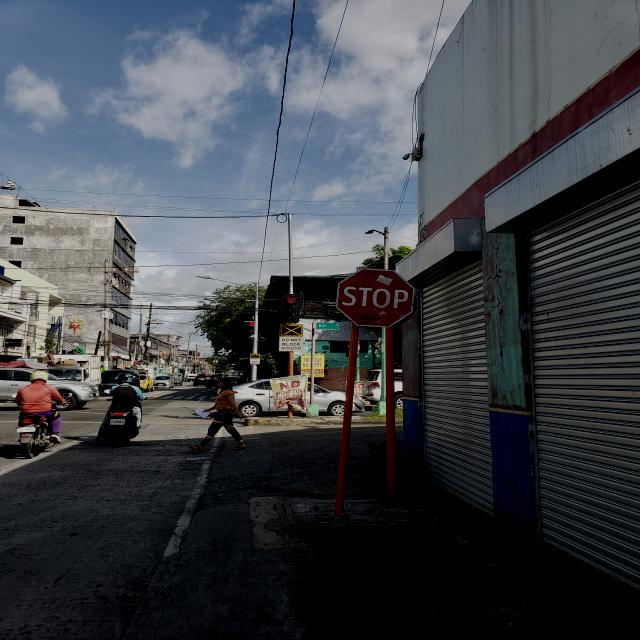stop-sign: (335, 267, 415, 328)
